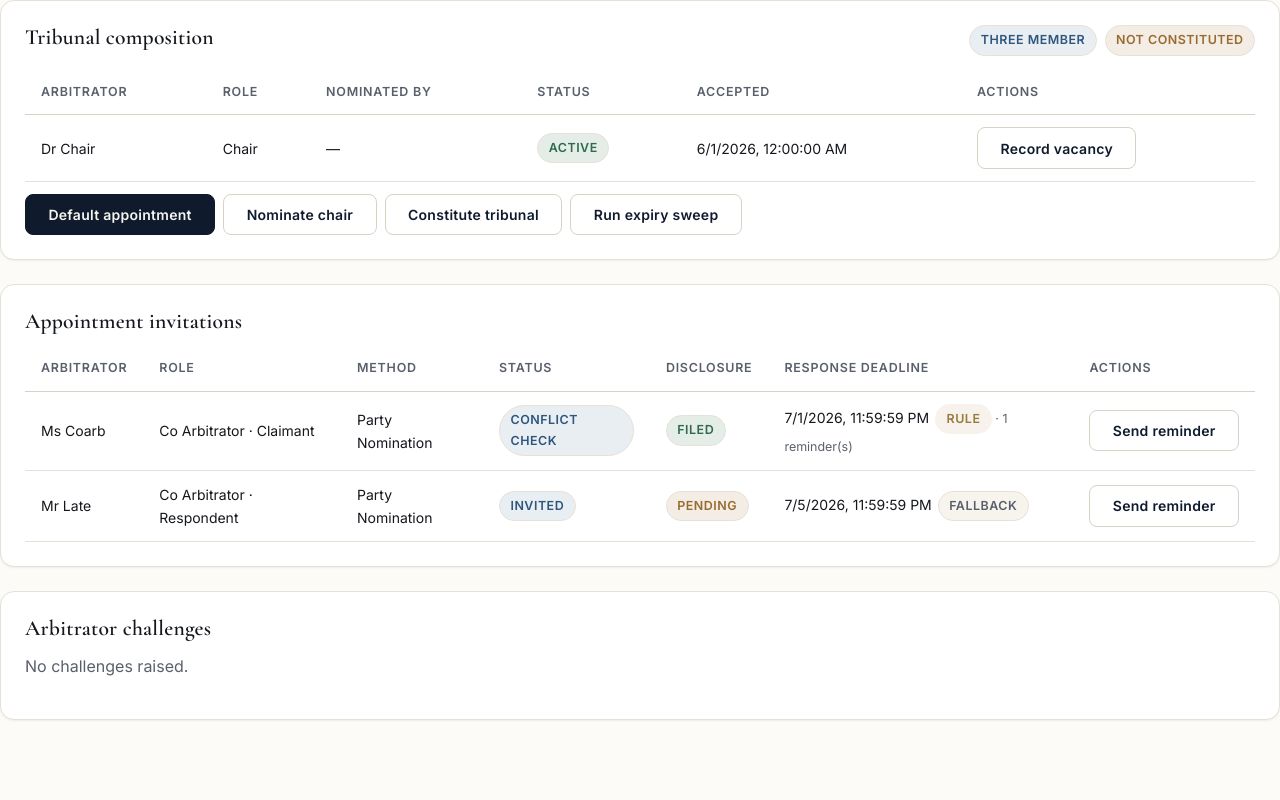
Test: TribunalTab — action flows › sends a reminder via the API and shows a success state
This screenshot has width=1280, height=800.
Expected: the heading "Tribunal composition" is shown, [25,25,214,50]
// The first reminder button corresponds to the first invitation (inv1).
Step 1. Click the button "Send reminder" in the row of "Ms Coarb" → (1164,431), box [1089,410,1239,451]
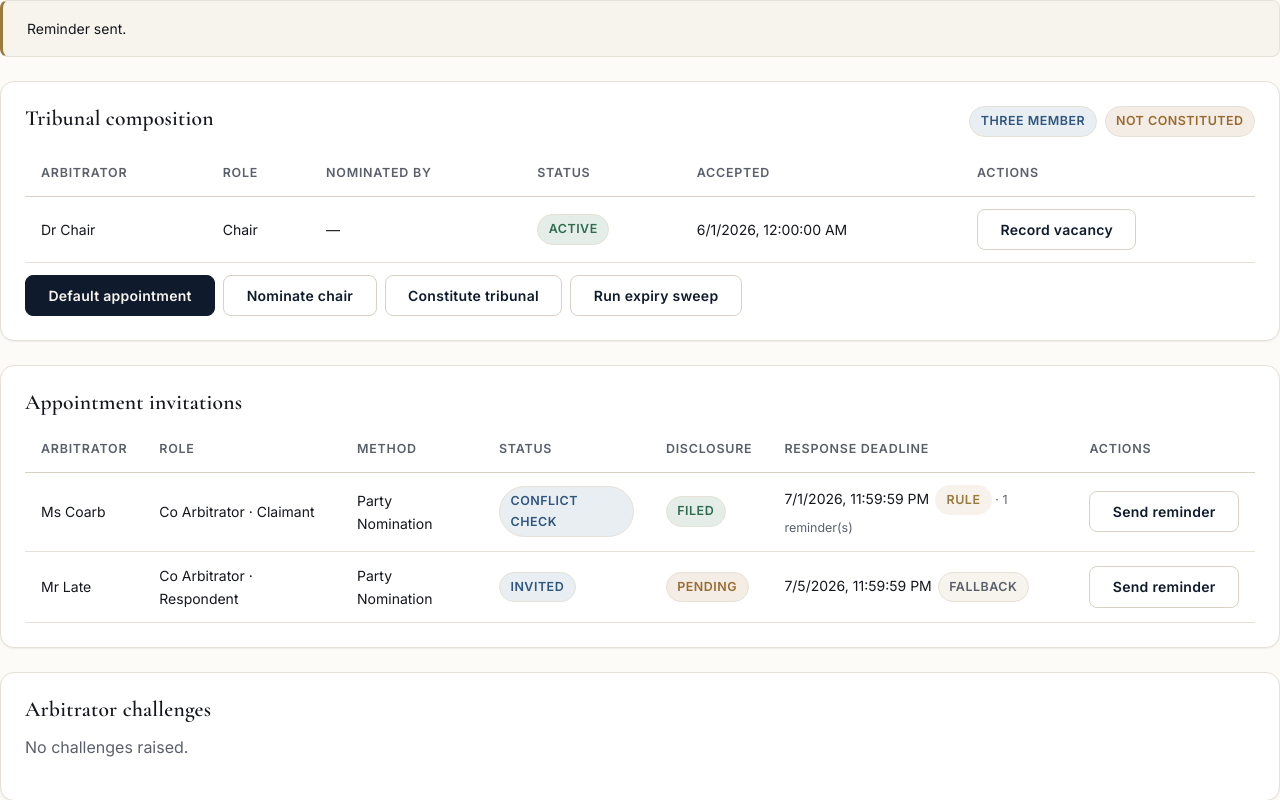
Now the text "Reminder sent." is shown, box [0,0,1279,57]
